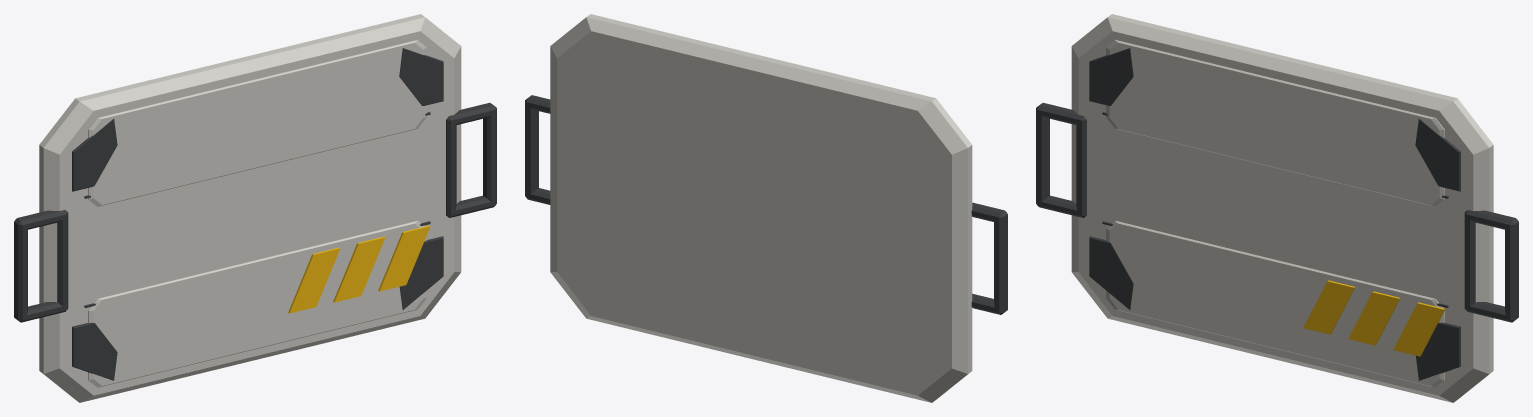
File: 08_armor_patch_unfolded.fbx
3 views of the same model, side by side, from view 1: azimuth 30°, elevation 25°; view 2: azimuth 150°, elevation 25°; view 3: azimuth 330°, elevation 25° (orthographic).
Parts seen in each view (by area): view 1: 08_armor_patch_unfolded; view 2: 08_armor_patch_unfolded; view 3: 08_armor_patch_unfolded.
Part boxes in pixels (bbox=[...]): 08_armor_patch_unfolded: bbox=[14, 14, 496, 402]; 08_armor_patch_unfolded: bbox=[525, 14, 1007, 402]; 08_armor_patch_unfolded: bbox=[1036, 14, 1518, 402].
Size of the model in its own units: 21 by 12.63 by 1.22.
